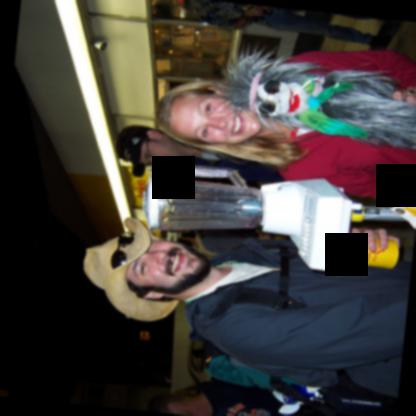backpack: (206, 353, 335, 416), (209, 239, 302, 317)
